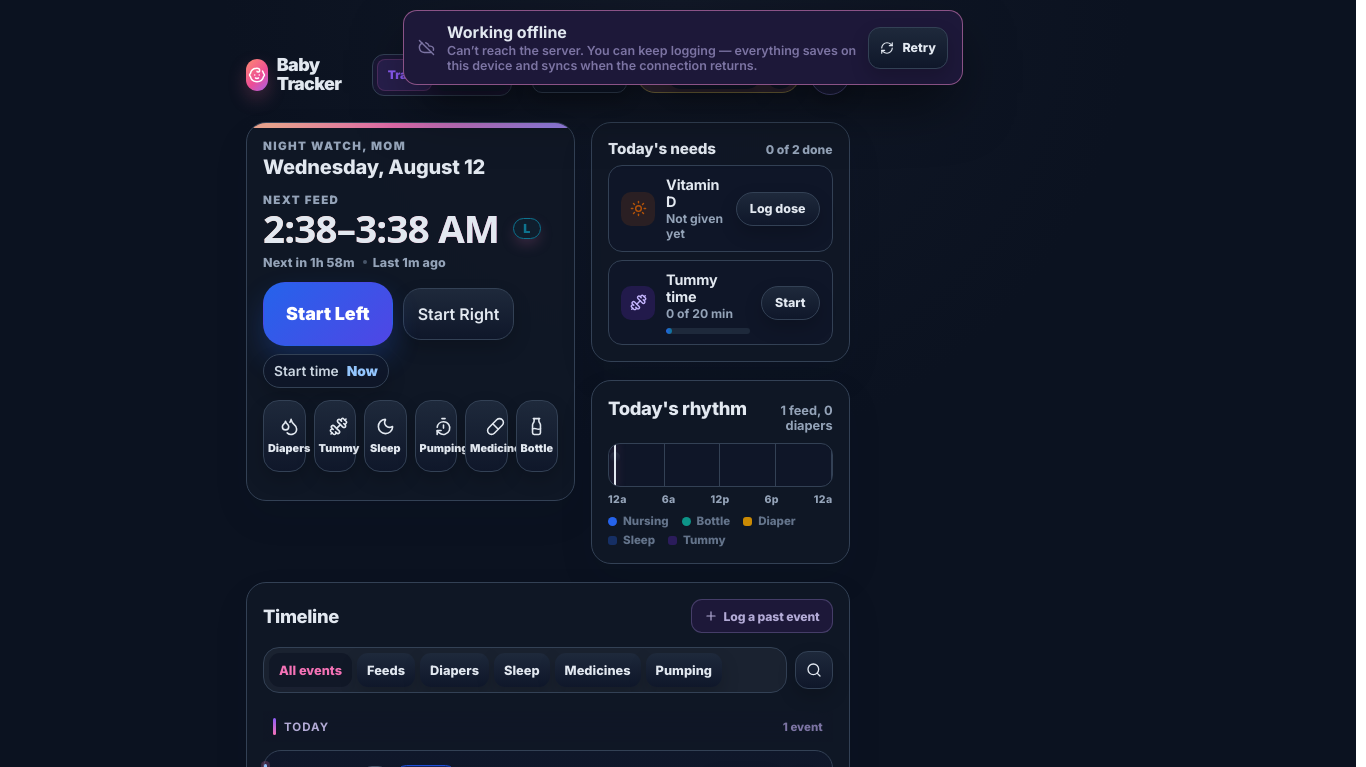
Test case: App interactions › suggests the opposite side from the last nursing feed and supports one-tap start
The width and height of the screenshot is (1366, 767).
Click the button with aria-label "Start suggested side: Left": (328, 314) [263, 282, 393, 346]
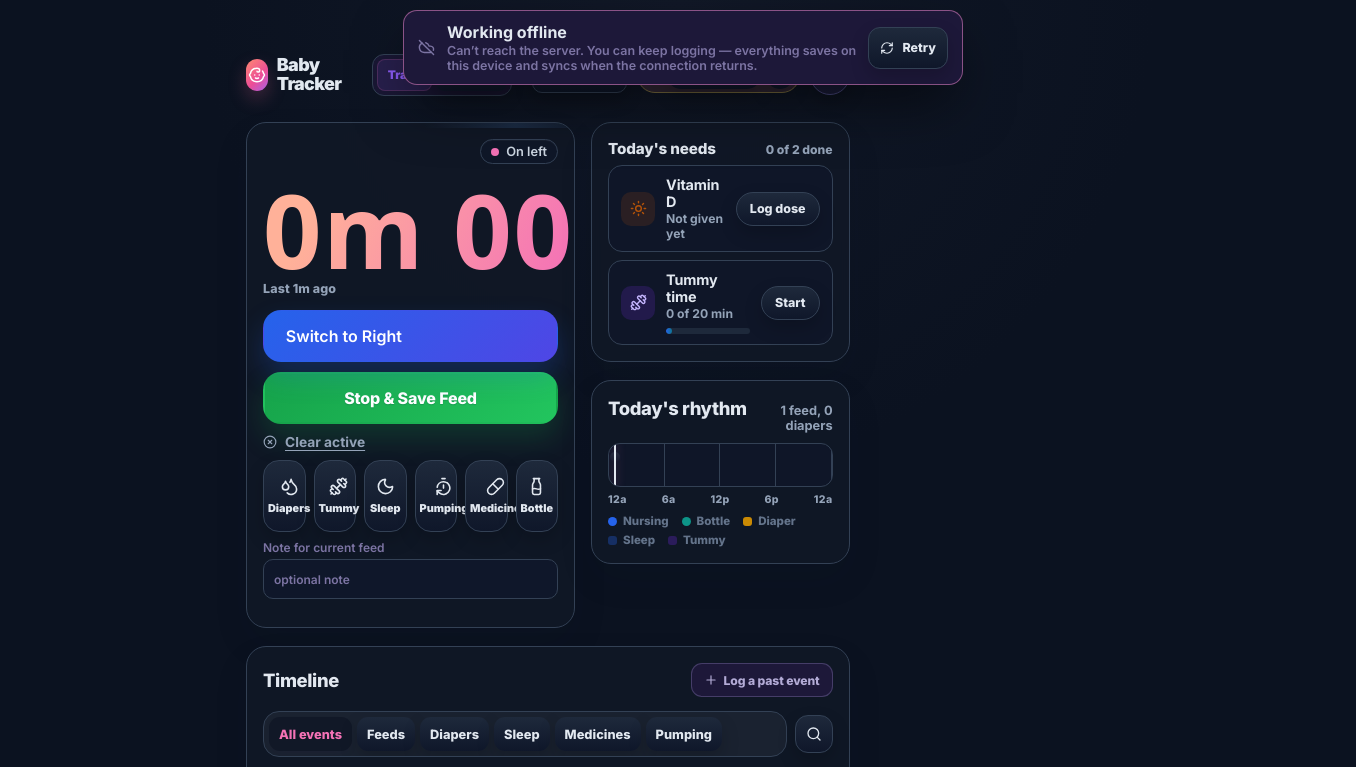
Result: the text "On left" is shown at [480, 139, 558, 164]
